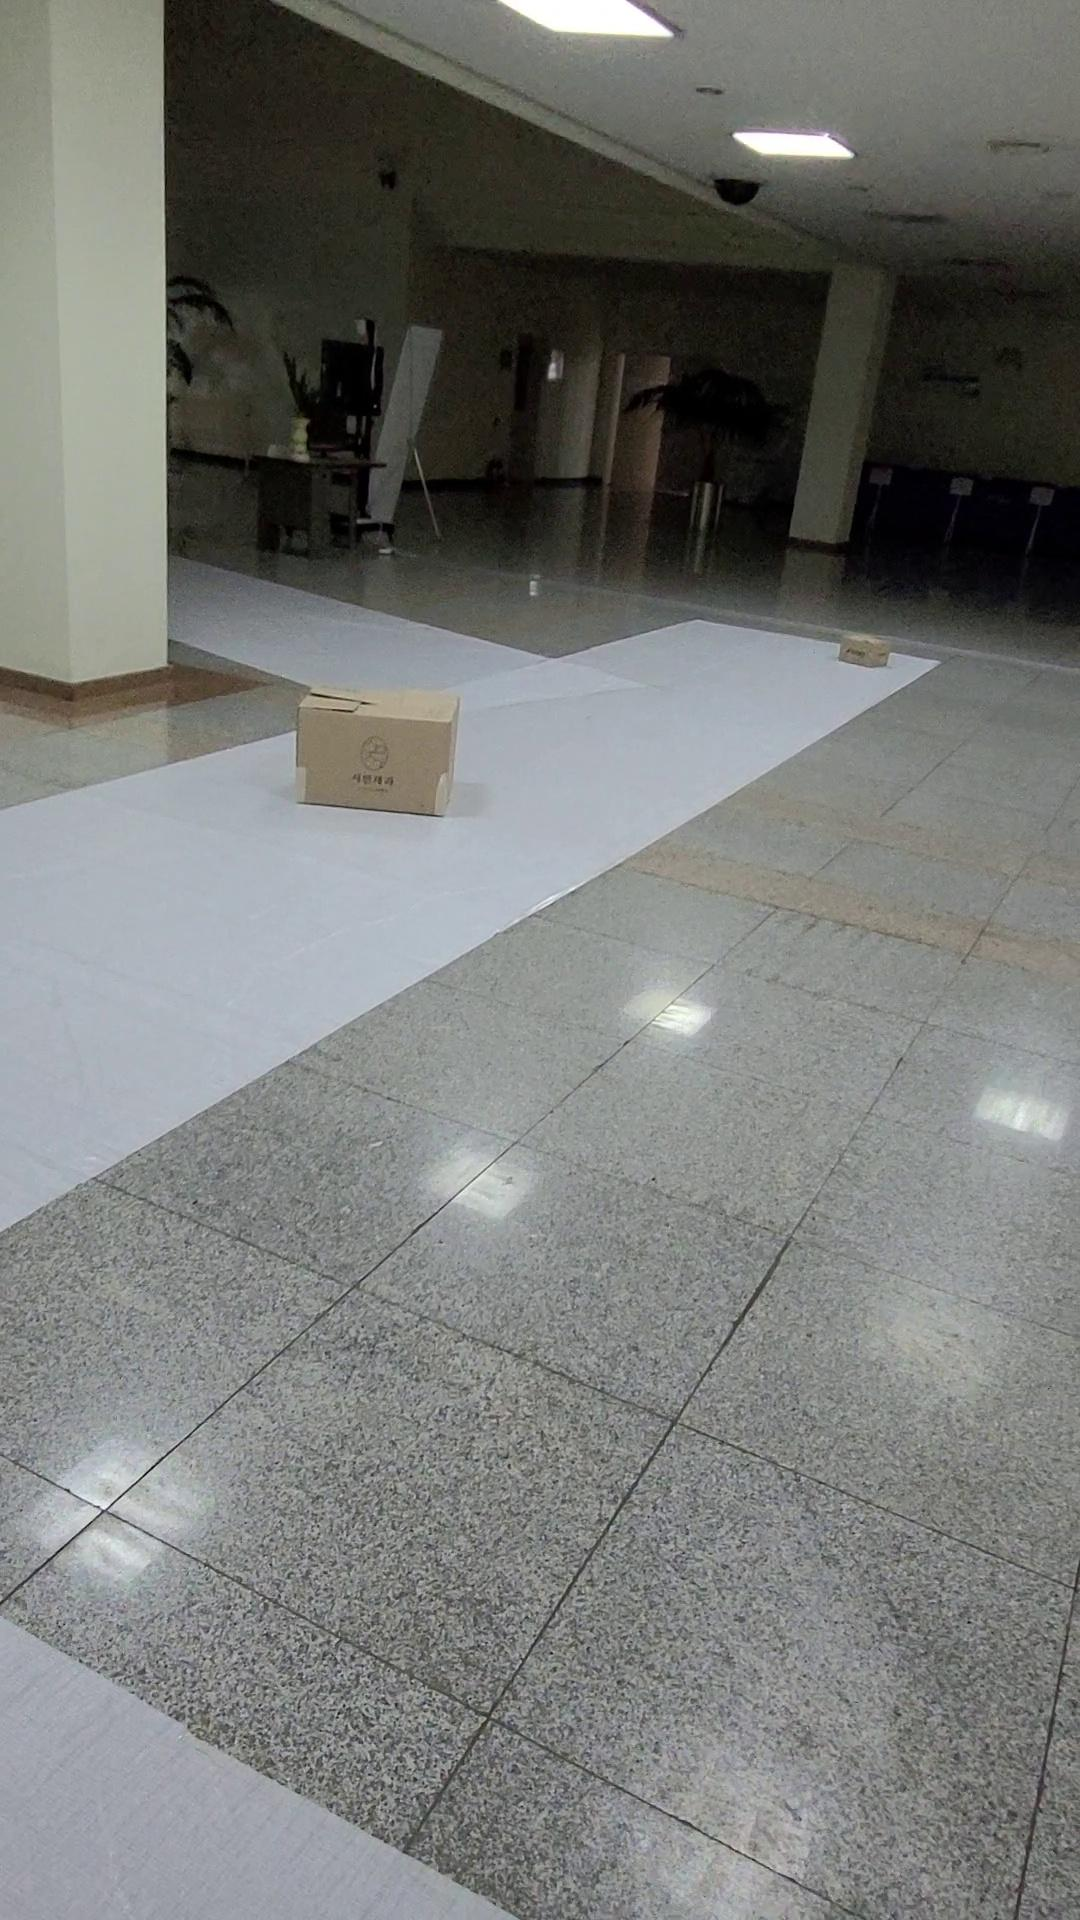Box: (262, 650, 483, 825), (811, 603, 897, 695)
